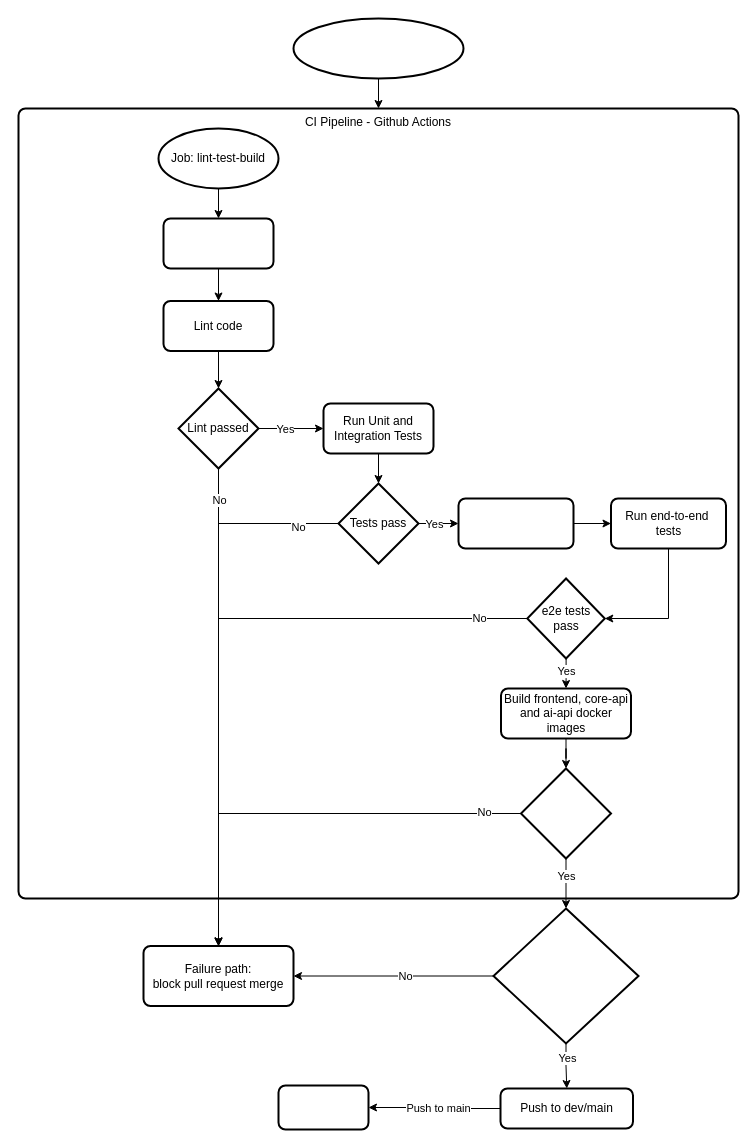
The diagram is 756 pixels wide and 1147 high, and some of its shapes have lost their labels. The centre of each missing label's shape, as x and y in pixels:
images succesfully build: point 566,813
Install dependencies: point 218,243
Manual approval Gate: Peer code reviews (dev: 2, main: 3): point 565,975
Run coverage commands and populate badges: point 515,523
Trigger CD: point 323,1107
Trigger: Pull request/ Push (to dev or main): point 378,48
